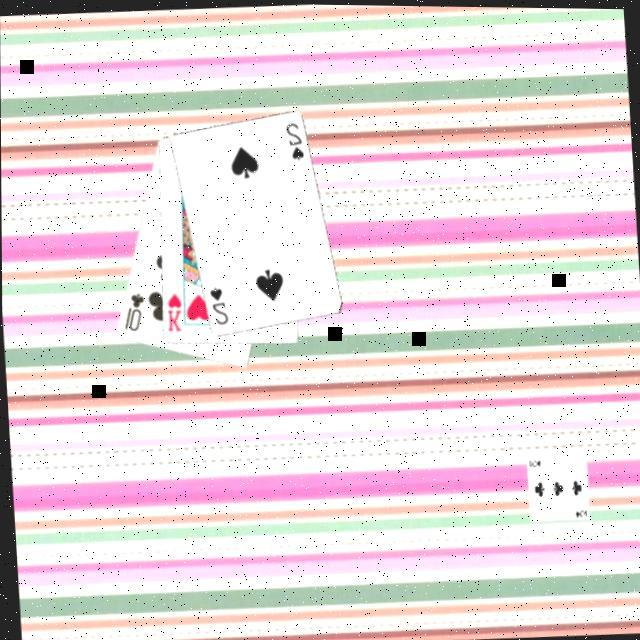10C: (119, 291, 149, 336)
2S: (206, 284, 232, 329), (283, 120, 307, 165)
KH: (163, 292, 186, 335)
